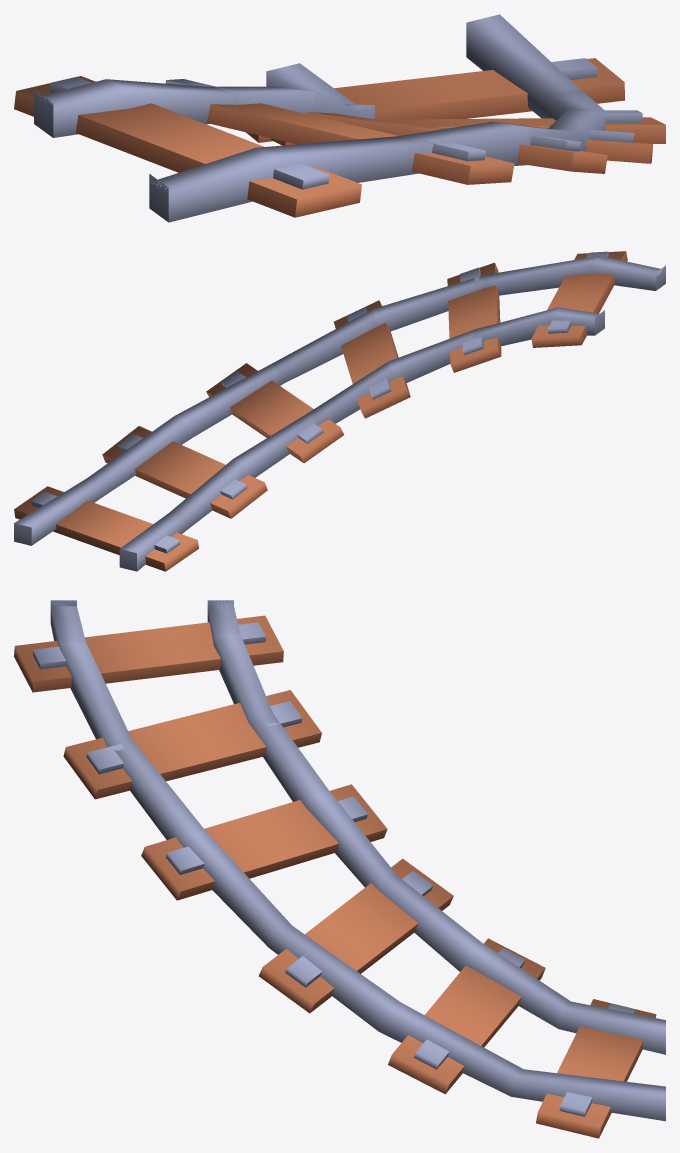
The model's file is railroad-damaged-corner-small-ramp.glb.
The picture shows the model from 3 angles, top to bottom: view 1: azimuth 30°, elevation 25°; view 2: azimuth 150°, elevation 25°; view 3: azimuth 270°, elevation 25°; orthographic projection. The views are drawn at different scales.
Visible parts, largest first — view 1: railroad-damaged-corner-small-ramp; view 2: railroad-damaged-corner-small-ramp; view 3: railroad-damaged-corner-small-ramp.
Boxes of the visible parts, x1,y1,x2,y2 form: railroad-damaged-corner-small-ramp: [14, 14, 665, 222]; railroad-damaged-corner-small-ramp: [14, 251, 665, 571]; railroad-damaged-corner-small-ramp: [14, 600, 665, 1138].
Size of the model in its own units: 2.49 by 1.11 by 2.49.
